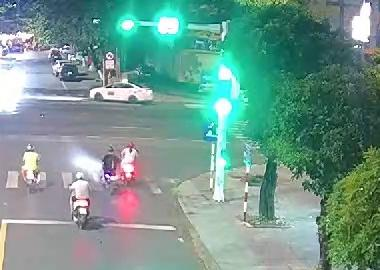green_light: (214, 58, 241, 113), (156, 10, 181, 40), (116, 11, 140, 37)
stop_line: (2, 215, 189, 233)
